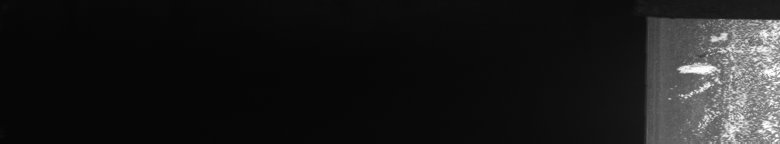kb: (659, 12, 776, 135)
